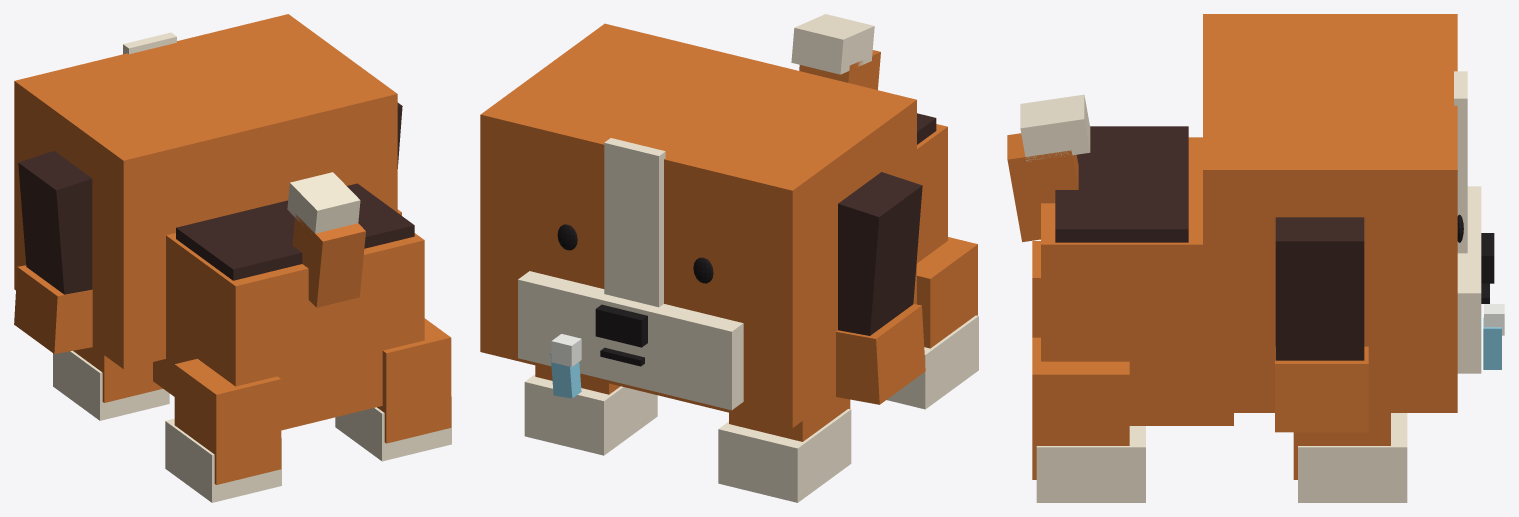
The model's file is Beagle_Block.obj.
The picture shows the model from 3 angles, left to right: view 1: azimuth 30°, elevation 25°; view 2: azimuth 150°, elevation 25°; view 3: azimuth 270°, elevation 25°; orthographic projection. The views are drawn at different scales.
Parts seen in each view (by area): view 1: BigHead, ShortTorso, LegBL_Leg, FloppyEarL, DarkSaddle, LegBR_Leg, FloppyEarTipL, ShortTail, LegBL_Paw, LegFL_Paw, WhiteTailTip, LegBR_Paw (+2 smaller); view 2: BigHead, WhiteMuzzle, FloppyEarL, WhiteFaceStripe, LegFL_Paw, LegFR_Paw, FloppyEarTipL, LegBL_Leg, LegBL_Paw, WhiteTailTip, ShortTorso, LegFL_Leg (+5 smaller); view 3: BigHead, ShortTorso, DarkSaddle, FloppyEarR, LegBR_Leg, FloppyEarTipR, LegFR_Paw, LegBR_Paw, ShortTail, WhiteMuzzle, WhiteTailTip, LegFR_Leg (+4 smaller).
Part boxes in pixels (box(x1,y1,x2,y2)): BigHead: box(14, 14, 397, 369); ShortTorso: box(153, 233, 424, 430); LegBL_Leg: box(174, 358, 281, 484); FloppyEarL: box(18, 151, 92, 294); DarkSaddle: box(176, 183, 414, 280); LegBR_Leg: box(377, 318, 451, 443); FloppyEarTipL: box(14, 265, 92, 353); ShortTail: box(292, 214, 365, 307); LegBL_Paw: box(165, 418, 281, 502); LegFL_Paw: box(53, 351, 169, 420); WhiteTailTip: box(287, 172, 360, 233); LegBR_Paw: box(335, 396, 451, 461); BigHead: box(480, 23, 916, 427); WhiteMuzzle: box(518, 271, 743, 410); FloppyEarL: box(838, 172, 922, 335); WhiteFaceStripe: box(604, 138, 665, 307); LegFL_Paw: box(718, 409, 851, 502); LegFR_Paw: box(524, 374, 657, 455); FloppyEarTipL: box(836, 304, 925, 404); LegBL_Leg: box(917, 237, 977, 348); LegBL_Paw: box(887, 315, 978, 409); WhiteTailTip: box(791, 14, 874, 74); ShortTorso: box(917, 124, 947, 262); LegFL_Leg: box(729, 397, 850, 441); BigHead: box(1203, 14, 1457, 412); ShortTorso: box(1041, 137, 1233, 425); DarkSaddle: box(1055, 126, 1188, 242); FloppyEarR: box(1275, 217, 1364, 360); LegBR_Leg: box(1032, 337, 1129, 479); FloppyEarTipR: box(1275, 346, 1368, 432); LegFR_Paw: box(1298, 413, 1407, 502); LegBR_Paw: box(1036, 426, 1145, 502); ShortTail: box(1007, 133, 1078, 242); WhiteMuzzle: box(1457, 186, 1481, 373); WhiteTailTip: box(1020, 94, 1090, 161); LegFR_Leg: box(1293, 413, 1390, 479).
Size of the model in its own units: 2.76 by 2.26 by 2.91.
